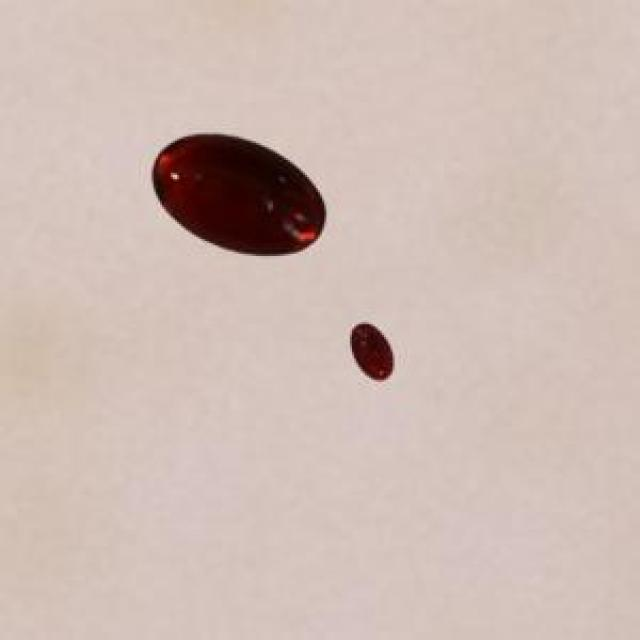Medicol: (133, 124, 338, 268), (345, 316, 401, 390)
